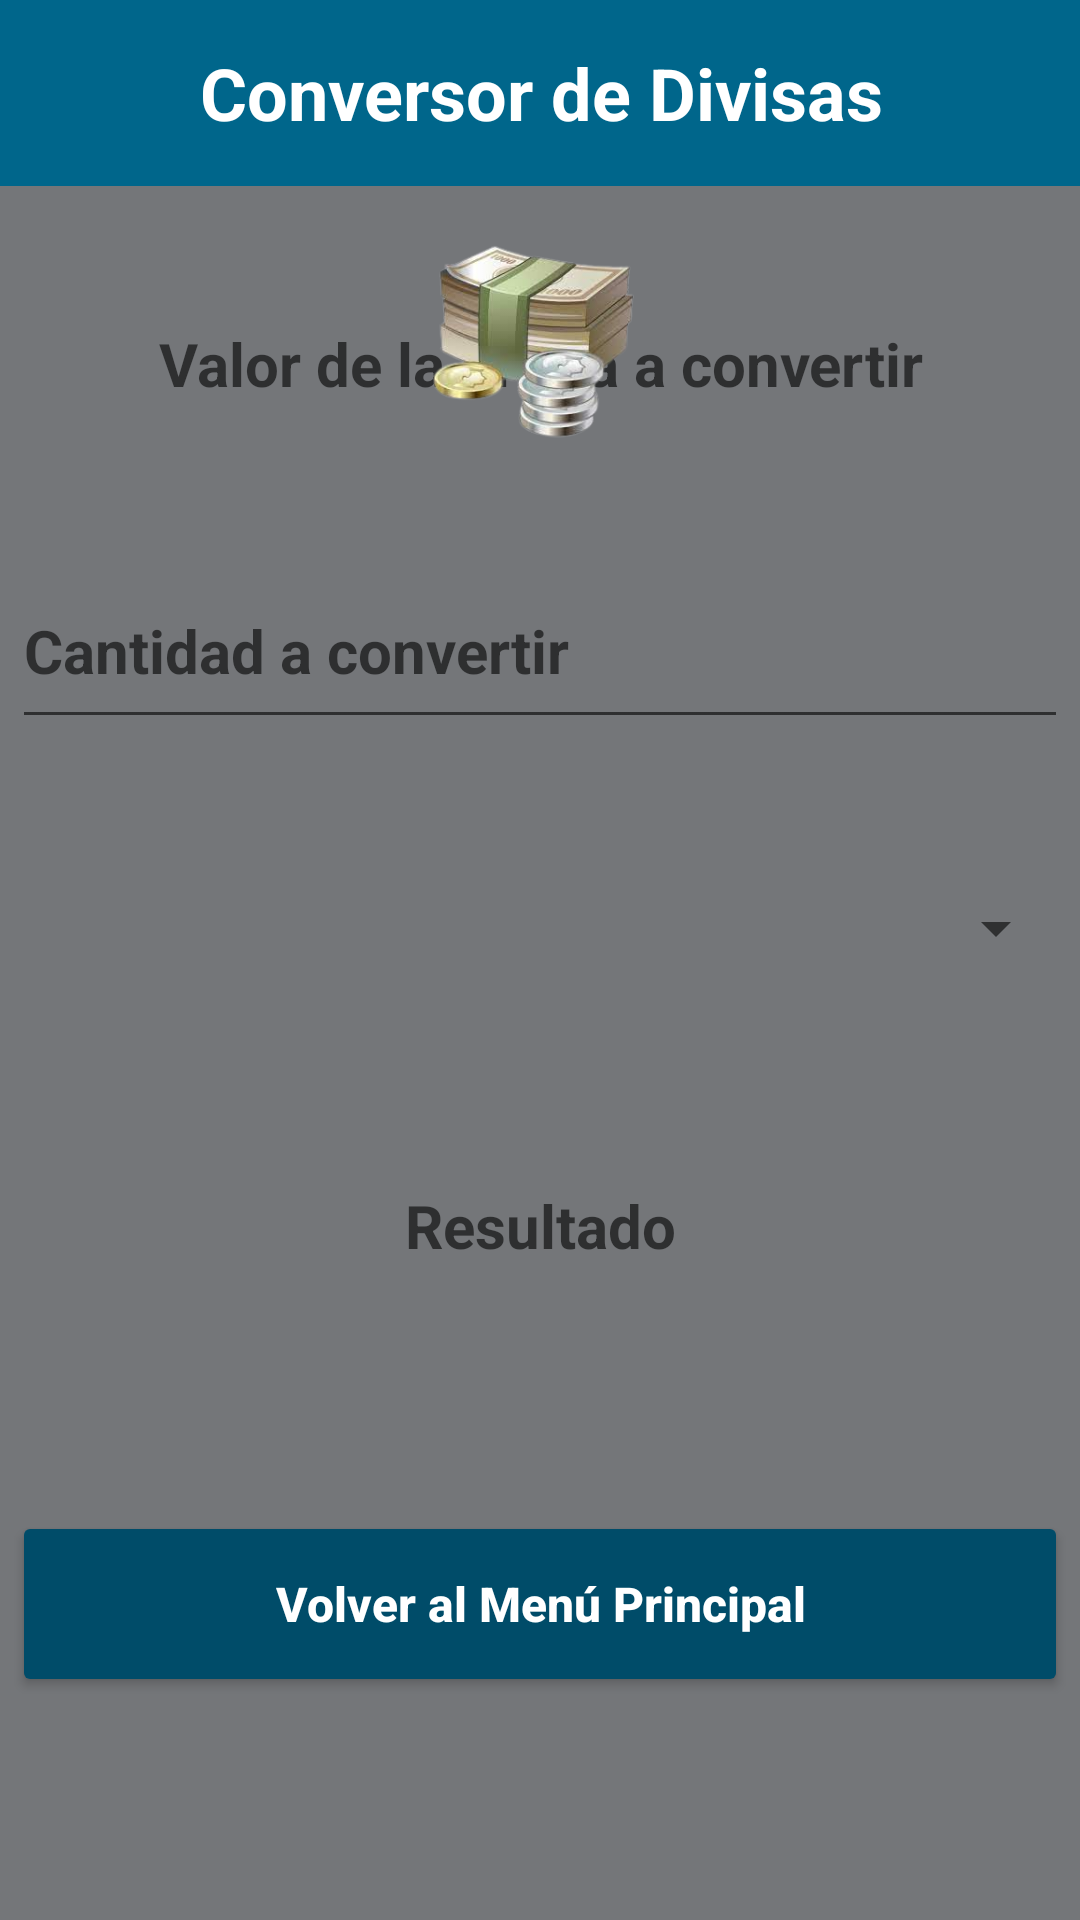

Screen size 1080×1920. Icon name, then its box in pixels as [x1=x1, y1=y1, x2=x2, y2=y2]:
monedas: [x1=433, y1=246, x2=643, y2=436]
